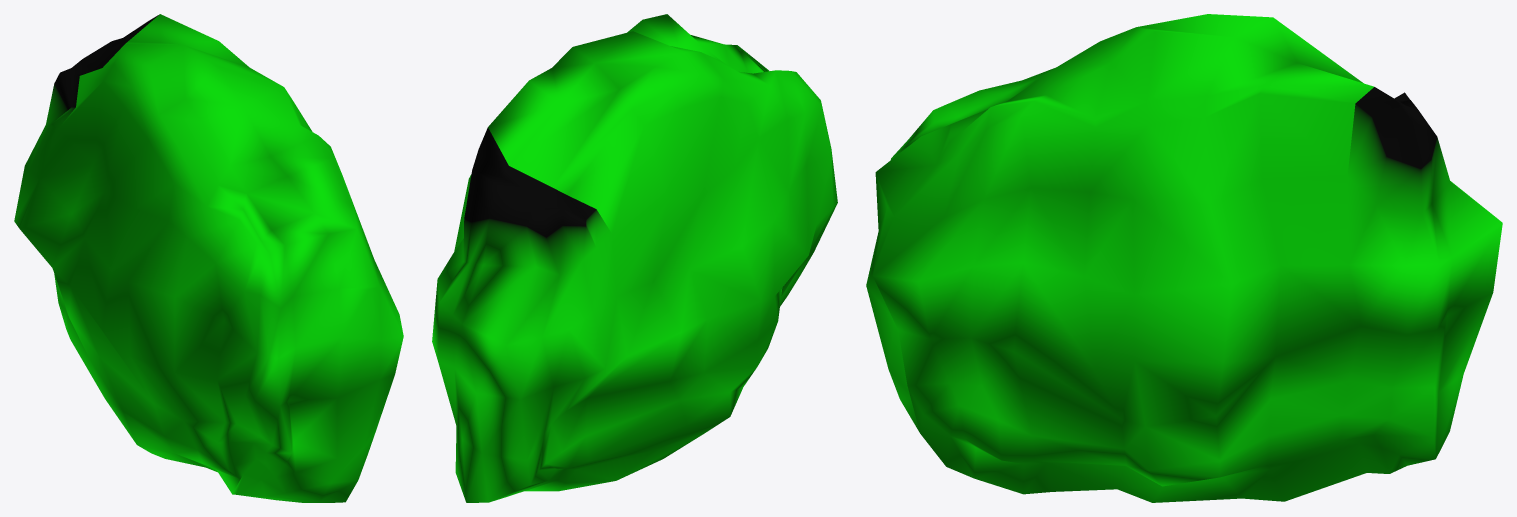
File: banghair.fbx
3 renders of one model, left to right at view 1: azimuth 30°, elevation 25°; view 2: azimuth 150°, elevation 25°; view 3: azimuth 270°, elevation 25°, orthographic. The views are drawn at different scales.
Visible parts, largest first — view 1: pCube2; view 2: pCube2; view 3: pCube2.
Boxes of the visible parts, x1=… form: pCube2: x1=14, y1=14, x2=403, y2=502; pCube2: x1=432, y1=14, x2=837, y2=502; pCube2: x1=866, y1=14, x2=1502, y2=502.
Size of the model in its own units: 5.77 by 9.51 by 12.23.
